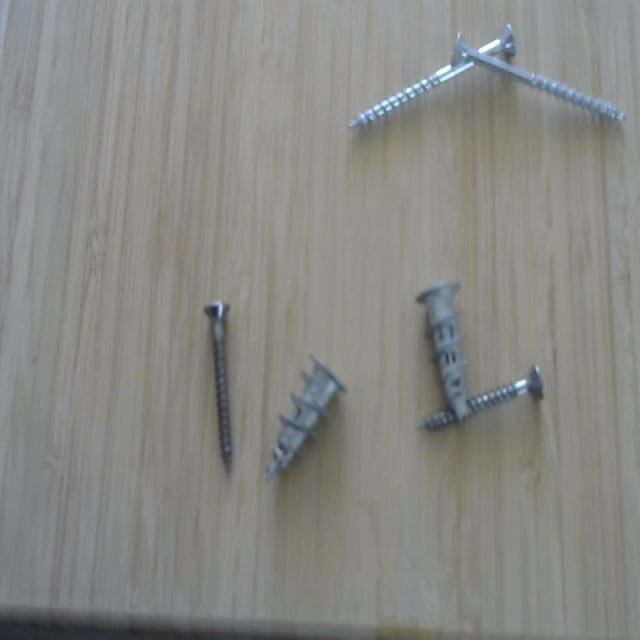Black screw: (412, 358, 556, 447), (198, 295, 240, 484)
Long screw: (343, 21, 525, 141), (444, 27, 632, 133)
Short screw: (254, 348, 359, 496), (407, 265, 476, 432)
